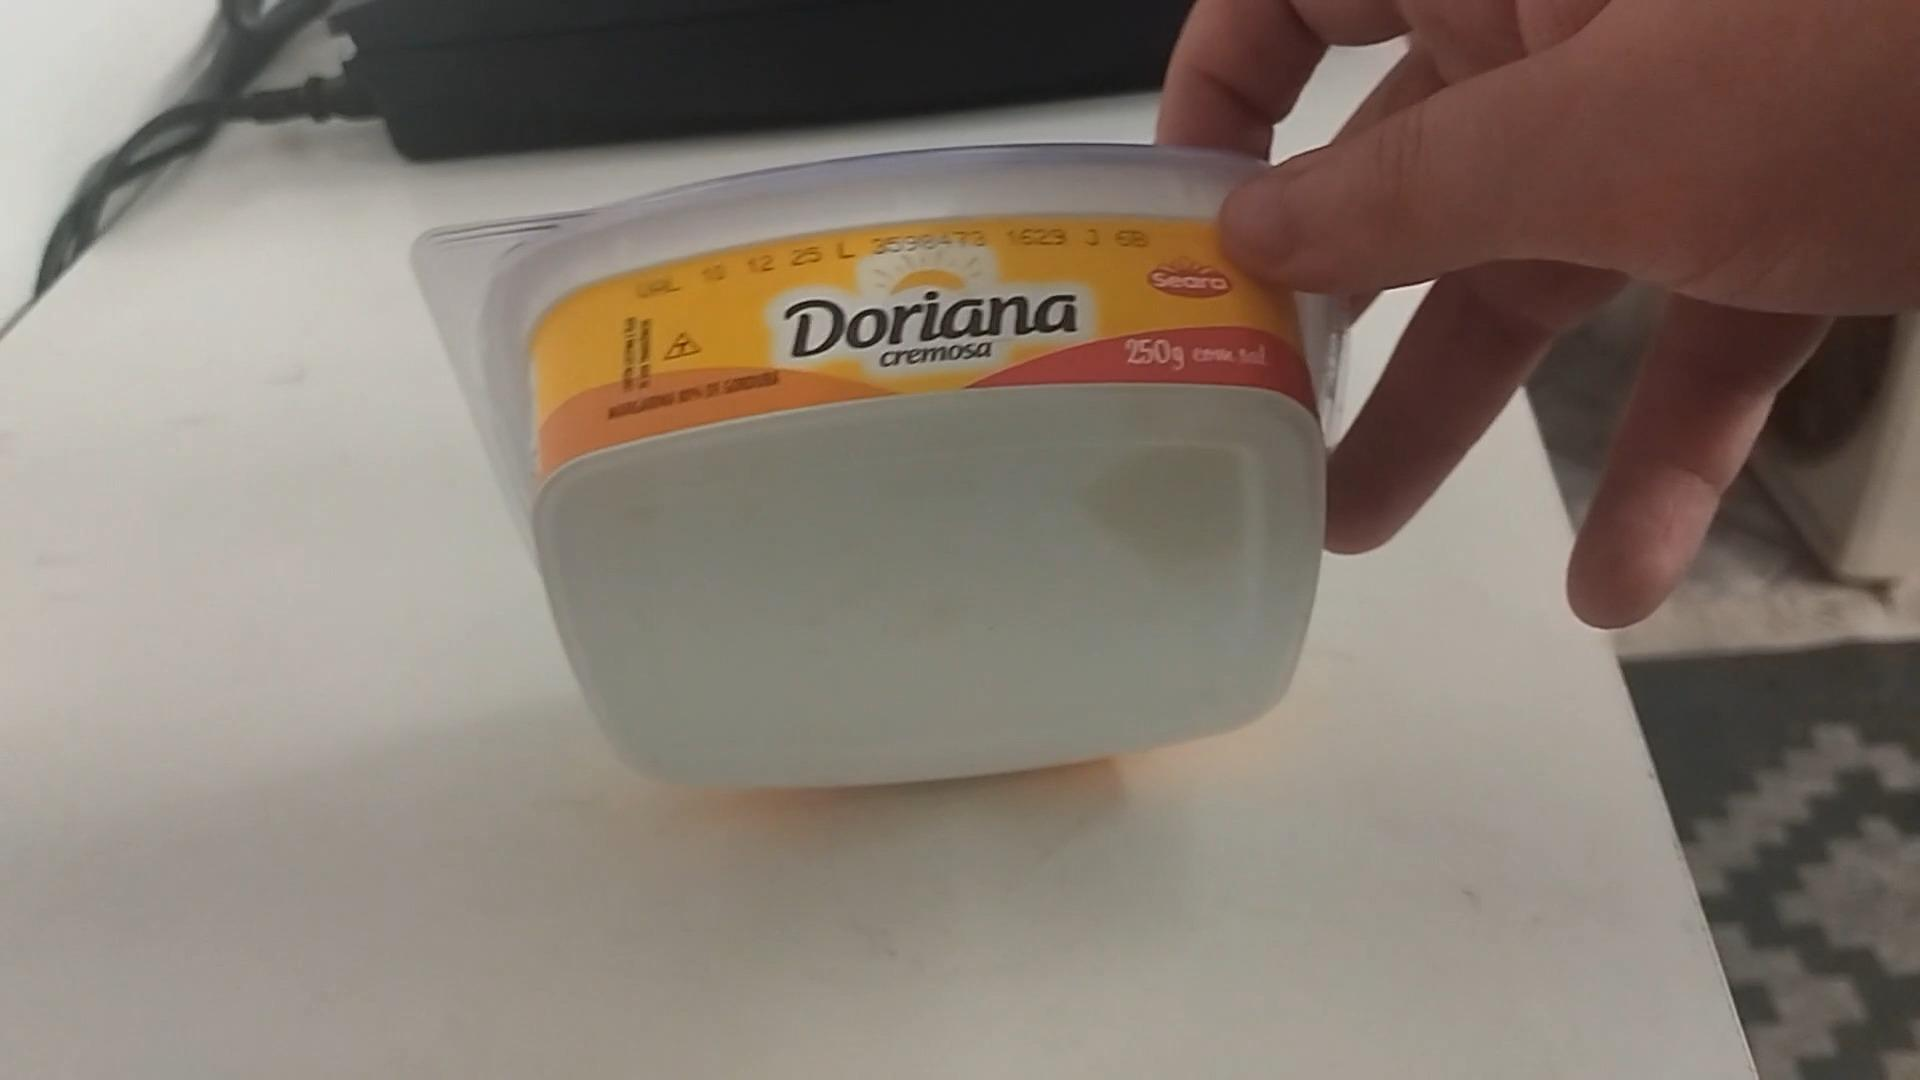butter: (417, 148, 1344, 788)
